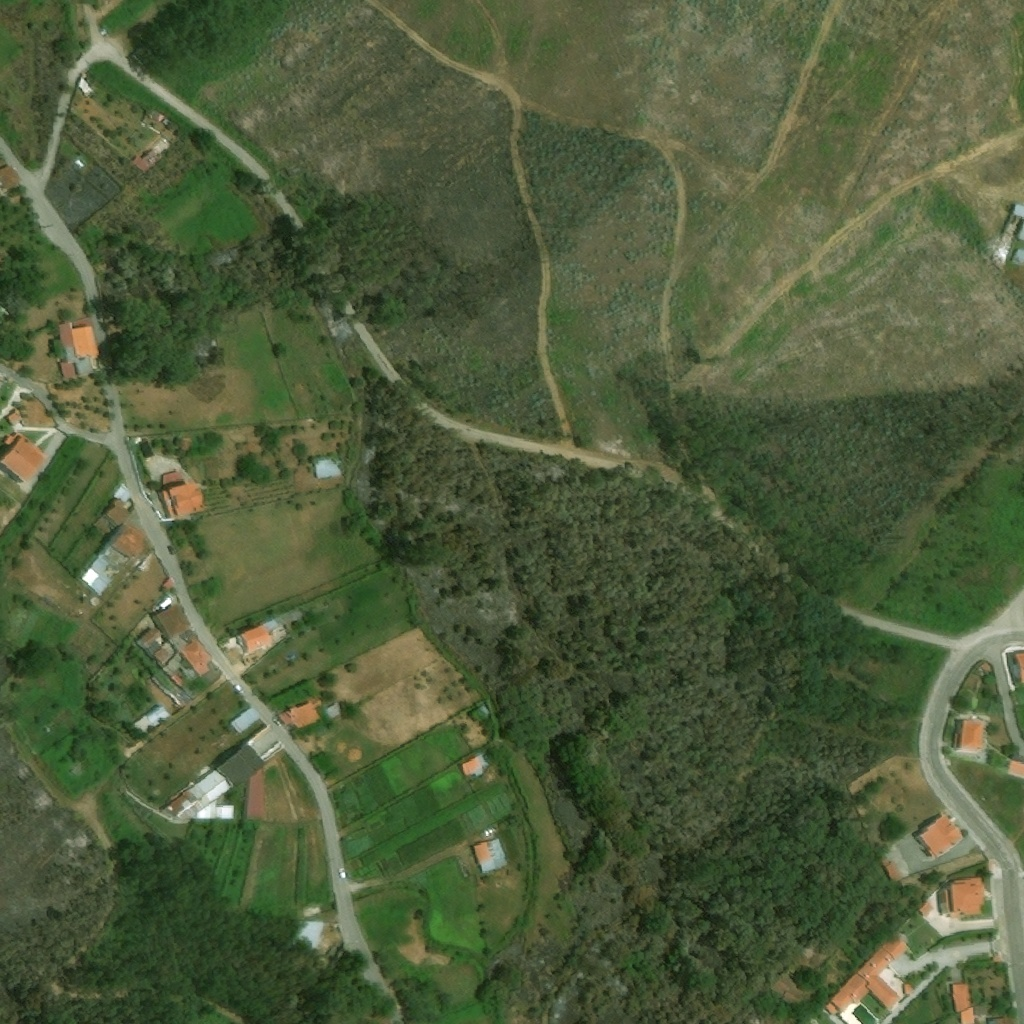0 no-damage: (81, 519, 150, 597), (159, 770, 234, 822), (858, 948, 903, 1012), (0, 429, 51, 485), (215, 741, 267, 789), (158, 471, 207, 521), (915, 814, 965, 862), (938, 878, 986, 919), (826, 973, 870, 1017), (237, 618, 280, 654), (280, 696, 323, 732), (155, 601, 193, 641), (284, 919, 322, 959), (67, 315, 101, 358), (103, 482, 133, 529), (472, 838, 508, 873), (182, 638, 212, 677), (953, 719, 986, 754), (242, 771, 263, 821), (228, 705, 262, 735), (164, 653, 189, 688), (462, 752, 495, 778), (131, 150, 161, 175), (144, 702, 171, 729), (136, 626, 164, 652), (884, 934, 910, 959), (953, 983, 974, 1013), (0, 164, 21, 192), (315, 458, 344, 478), (322, 701, 345, 722), (74, 357, 100, 375), (56, 322, 73, 349), (153, 645, 174, 666), (66, 762, 86, 782), (60, 359, 78, 379), (77, 77, 93, 98), (161, 128, 179, 146), (918, 902, 936, 920), (8, 409, 25, 427), (162, 577, 177, 594), (181, 438, 196, 452), (152, 120, 167, 134), (142, 112, 155, 127), (963, 1008, 975, 1023), (979, 662, 992, 674), (904, 984, 915, 994), (286, 624, 295, 633), (8, 377, 14, 384)
4 un-classified: (996, 205, 1023, 260), (773, 972, 810, 1008), (798, 942, 832, 976), (1005, 758, 1023, 779), (1012, 653, 1023, 685), (0, 305, 9, 326), (988, 1017, 1018, 1023), (0, 373, 4, 402)
